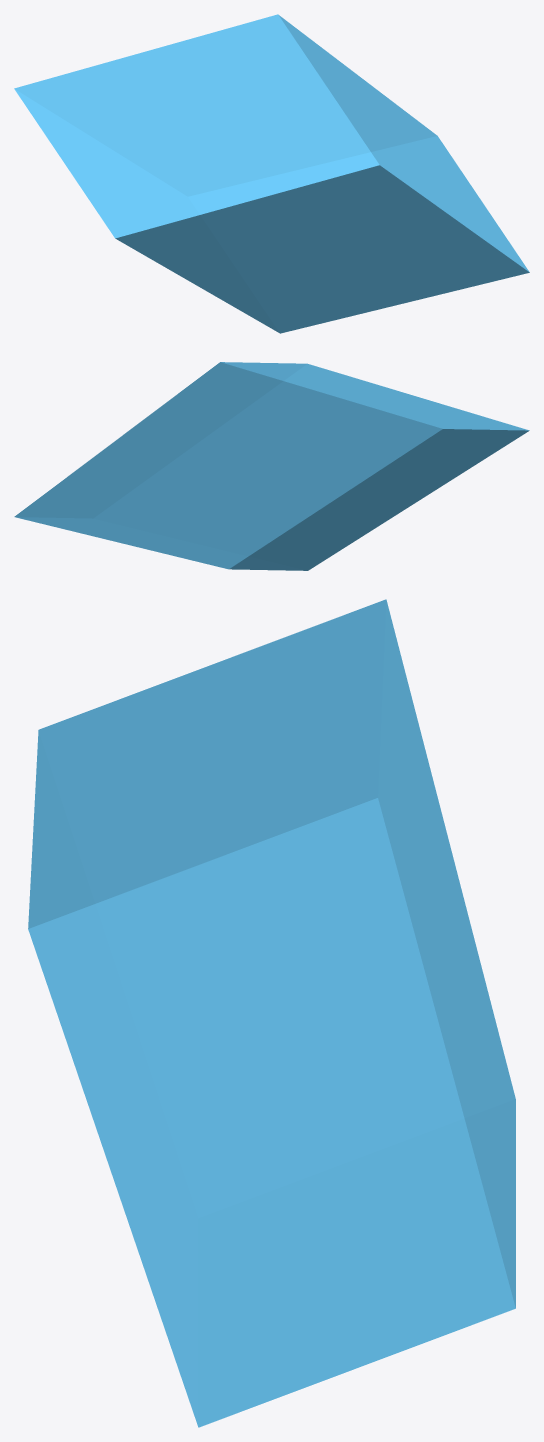
The model's file is Event_420107950_HBrechit_7.fbx.
3 views of the same model, one above another, from view 1: azimuth 30°, elevation 25°; view 2: azimuth 150°, elevation 25°; view 3: azimuth 270°, elevation 25° (orthographic). The views are drawn at different scales.
Parts seen in each view (by area): view 1: Model; view 2: Model; view 3: Model.
Part boxes in pixels (x1,y1,x2,y2): Model: [14, 14, 529, 333]; Model: [14, 362, 529, 570]; Model: [28, 599, 515, 1427].
Bounding box in the file's own units: 1.07 × 0.5965 × 0.5703.
